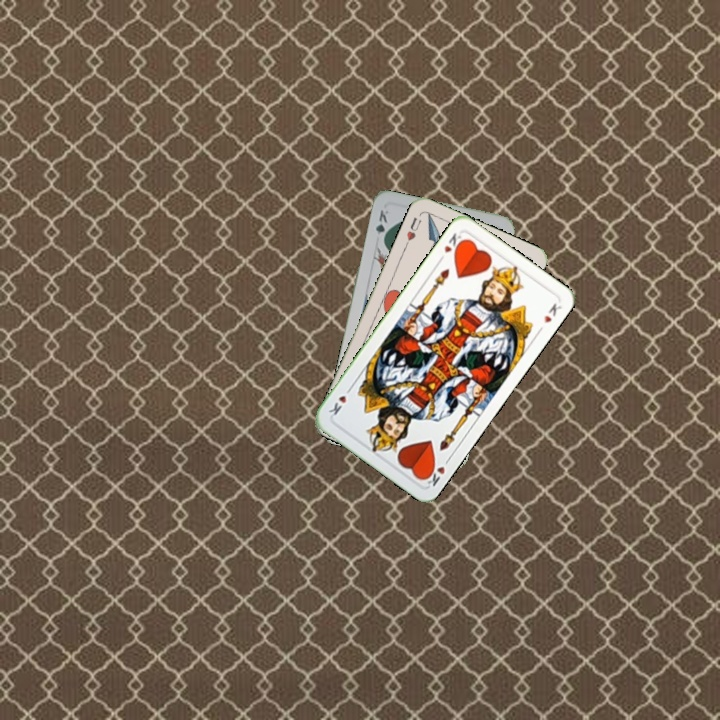GK: (372, 206, 391, 246)
HK: (419, 453, 453, 489), (435, 229, 467, 264)
HU: (401, 213, 424, 249)
